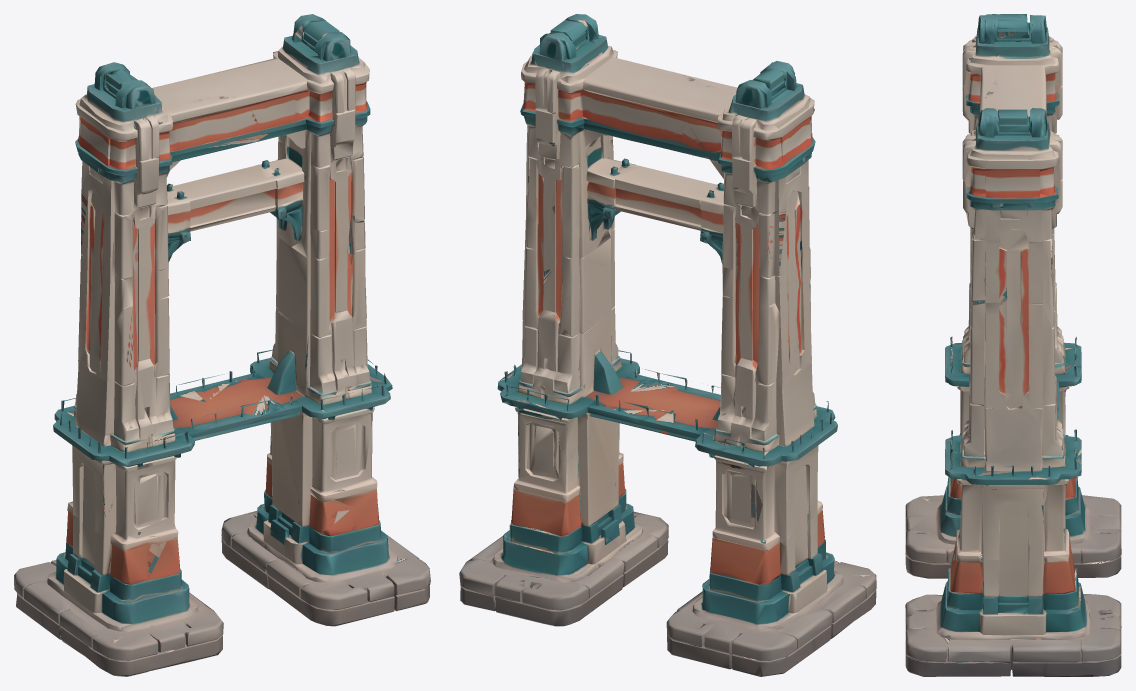
Rendered from bridge-tower-cartoon-mobile-decimated.glb.
The picture shows the model from 3 angles, left to right: view 1: azimuth 30°, elevation 25°; view 2: azimuth 150°, elevation 25°; view 3: azimuth 270°, elevation 25°; orthographic projection. The views are drawn at different scales.
Parts seen in each view (by area): view 1: model; view 2: model; view 3: model.
Part boxes in pixels (x1,y1,x2,y2): model: [14, 14, 430, 676]; model: [459, 14, 876, 676]; model: [905, 14, 1121, 676].
Bounding box in the file's own units: 1.18 × 1.9 × 0.6924.
Materials: 1 (1 with a texture image).
